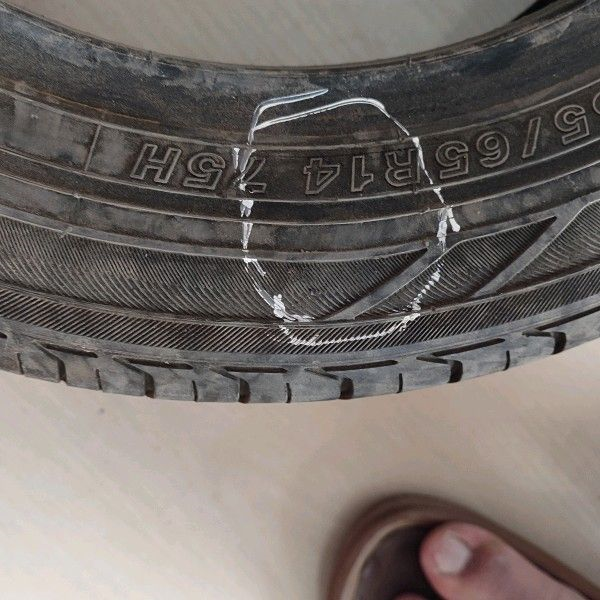CBU: (249, 107, 437, 340)
